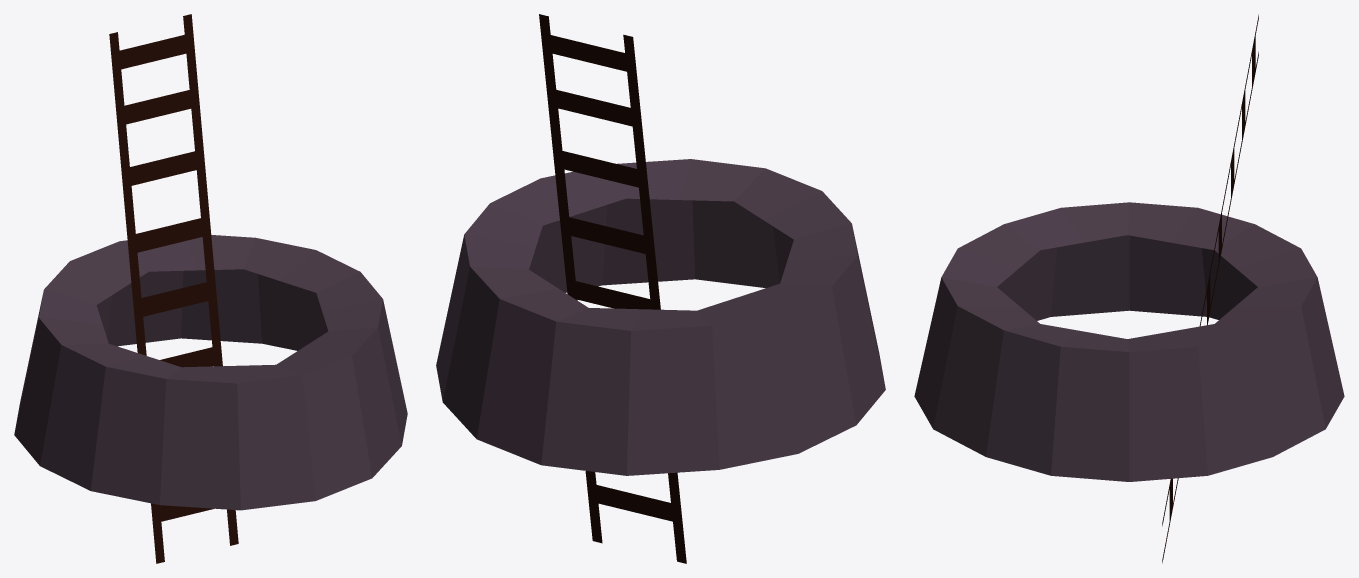
The model's file is mine.obj.
3 views of the same model, side by side, from view 1: azimuth 30°, elevation 25°; view 2: azimuth 150°, elevation 25°; view 3: azimuth 270°, elevation 25° (orthographic). The views are drawn at different scales.
Visible parts, largest first — view 1: Cube, Plane.002; view 2: Cube, Plane.002; view 3: Cube, Plane.002.
Part boxes in pixels (<box>): Cube: <box>14,235,407,510</box>; Plane.002: <box>109,14,238,563</box>; Cube: <box>436,159,885,475</box>; Plane.002: <box>539,14,686,563</box>; Cube: <box>914,202,1344,481</box>; Plane.002: <box>1162,14,1258,563</box>.
Size of the model in its own units: 1.61 by 2.23 by 1.71.
